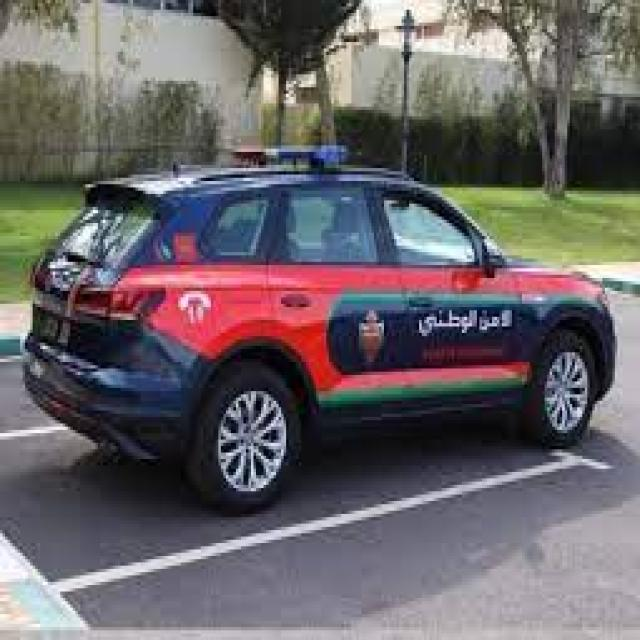police: (22, 145, 613, 507)
